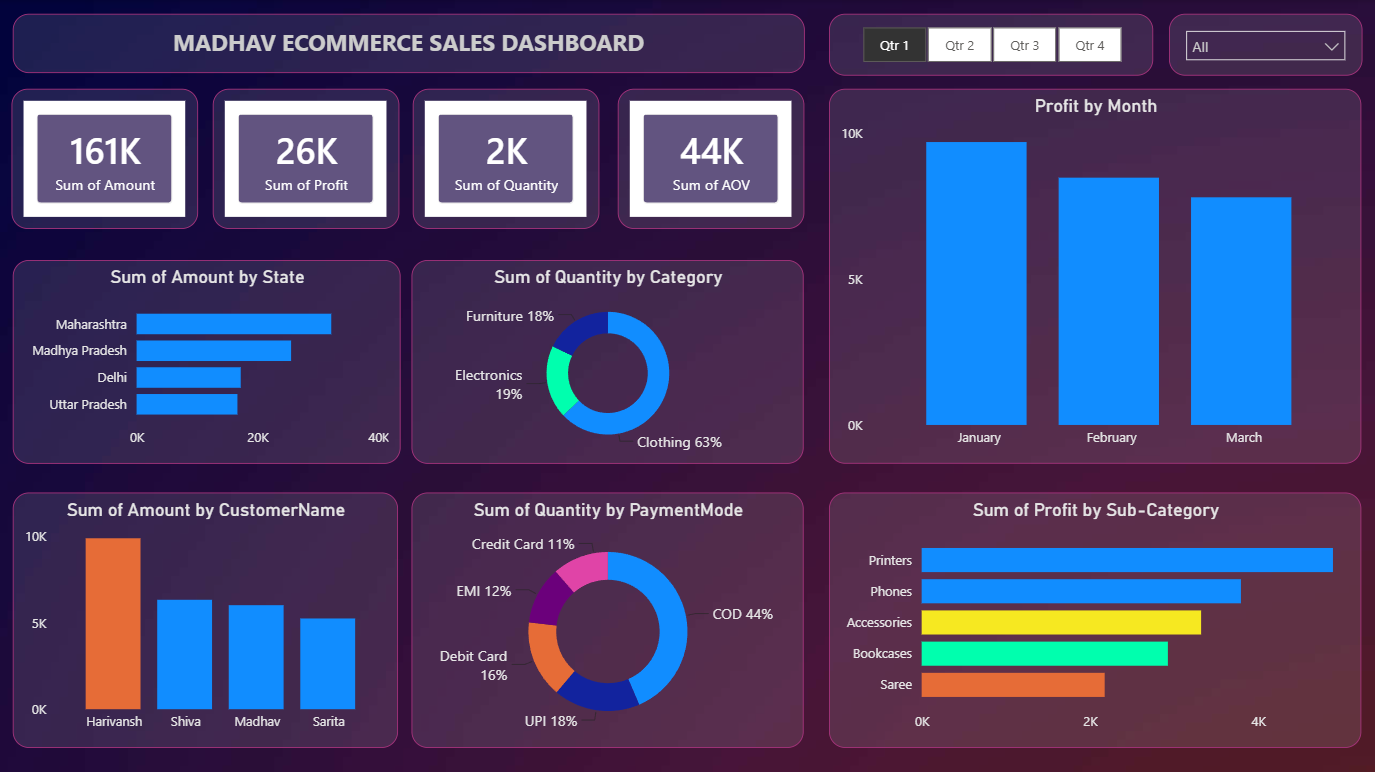

This screenshot's page, from the dashboard's own definition file:
{"tool":"powerbi","page":{"name":"Page 1","canvas":[1280,720],"ordinal":0},"visuals":[{"type":"textbox","box":[12.3,12.3,736.9,54.9],"z":0},{"type":"columnChart","title":"Profit by Month","fields":{"Y":["Sum(Details.Profit)"],"Category":["Orders.Order Date.Variation.Date Hierarchy.Month"]},"box":[772.6,82.3,495.4,348.5],"z":1000},{"type":"barChart","fields":{"Category":["Details.Sub-Category"],"Y":["Sum(Details.Profit)"]},"box":[772.6,458.3,495.4,237.4],"z":2000},{"type":"donutChart","fields":{"Category":["Details.Category"],"Y":["Sum(Details.Quantity)"]},"box":[384.2,241.5,365,189.4],"z":3000},{"type":"donutChart","fields":{"Y":["Sum(Details.Quantity)"],"Category":["Details.PaymentMode"]},"box":[384.2,458.3,365,237.4],"z":4000},{"type":"cardVisual","fields":{"Data":["Sum(Details.Amount)"]},"box":[12.1,82,173.7,130.3],"z":5000},{"type":"cardVisual","fields":{"Data":["Sum(Details.Profit)"]},"box":[199.1,82,173.7,130.3],"z":6000},{"type":"cardVisual","fields":{"Data":["Sum(Details.Quantity)"]},"box":[384.9,82,173.7,130.3],"z":7000},{"type":"cardVisual","fields":{"Data":["Sum(Details.AOV)"]},"box":[575.5,82,173.7,130.3],"z":8000},{"type":"barChart","fields":{"Category":["Orders.State"],"Y":["Sum(Details.Amount)"]},"box":[12.3,241.5,360.9,189.4],"z":9000},{"type":"columnChart","fields":{"Category":["Orders.CustomerName"],"Y":["Sum(Details.Amount)"]},"box":[12.3,458.3,358.1,237.4],"z":10000},{"type":"slicer","fields":{"Values":["Orders.Order Date.Variation.Date Hierarchy.Quarter"]},"box":[772.6,12.3,301.9,57.6],"z":11000},{"type":"slicer","fields":{"Values":["Orders.State"]},"box":[1088.2,12.3,179.8,57.6],"z":12000}]}

Visuals, with their boxes in screenshot pixels (x1, y1, x2, y2), scaled from the page's 1280x720 canvas onto the 1375x772 screenshot:
textbox: x1=13, y1=13, x2=805, y2=72
"Profit by Month" columnChart: x1=830, y1=88, x2=1362, y2=462
barChart - Details.Sub-Category x Sum(Details.Profit): x1=830, y1=491, x2=1362, y2=746
donutChart - Details.Category x Sum(Details.Quantity): x1=413, y1=259, x2=805, y2=462
donutChart - Sum(Details.Quantity) x Details.PaymentMode: x1=413, y1=491, x2=805, y2=746
cardVisual - Sum(Details.Amount): x1=13, y1=88, x2=200, y2=228
cardVisual - Sum(Details.Profit): x1=214, y1=88, x2=400, y2=228
cardVisual - Sum(Details.Quantity): x1=413, y1=88, x2=600, y2=228
cardVisual - Sum(Details.AOV): x1=618, y1=88, x2=805, y2=228
barChart - Orders.State x Sum(Details.Amount): x1=13, y1=259, x2=401, y2=462
columnChart - Orders.CustomerName x Sum(Details.Amount): x1=13, y1=491, x2=398, y2=746
slicer - Orders.Order Date.Variation.Date Hierarchy.Quarter: x1=830, y1=13, x2=1154, y2=75
slicer - Orders.State: x1=1169, y1=13, x2=1362, y2=75
